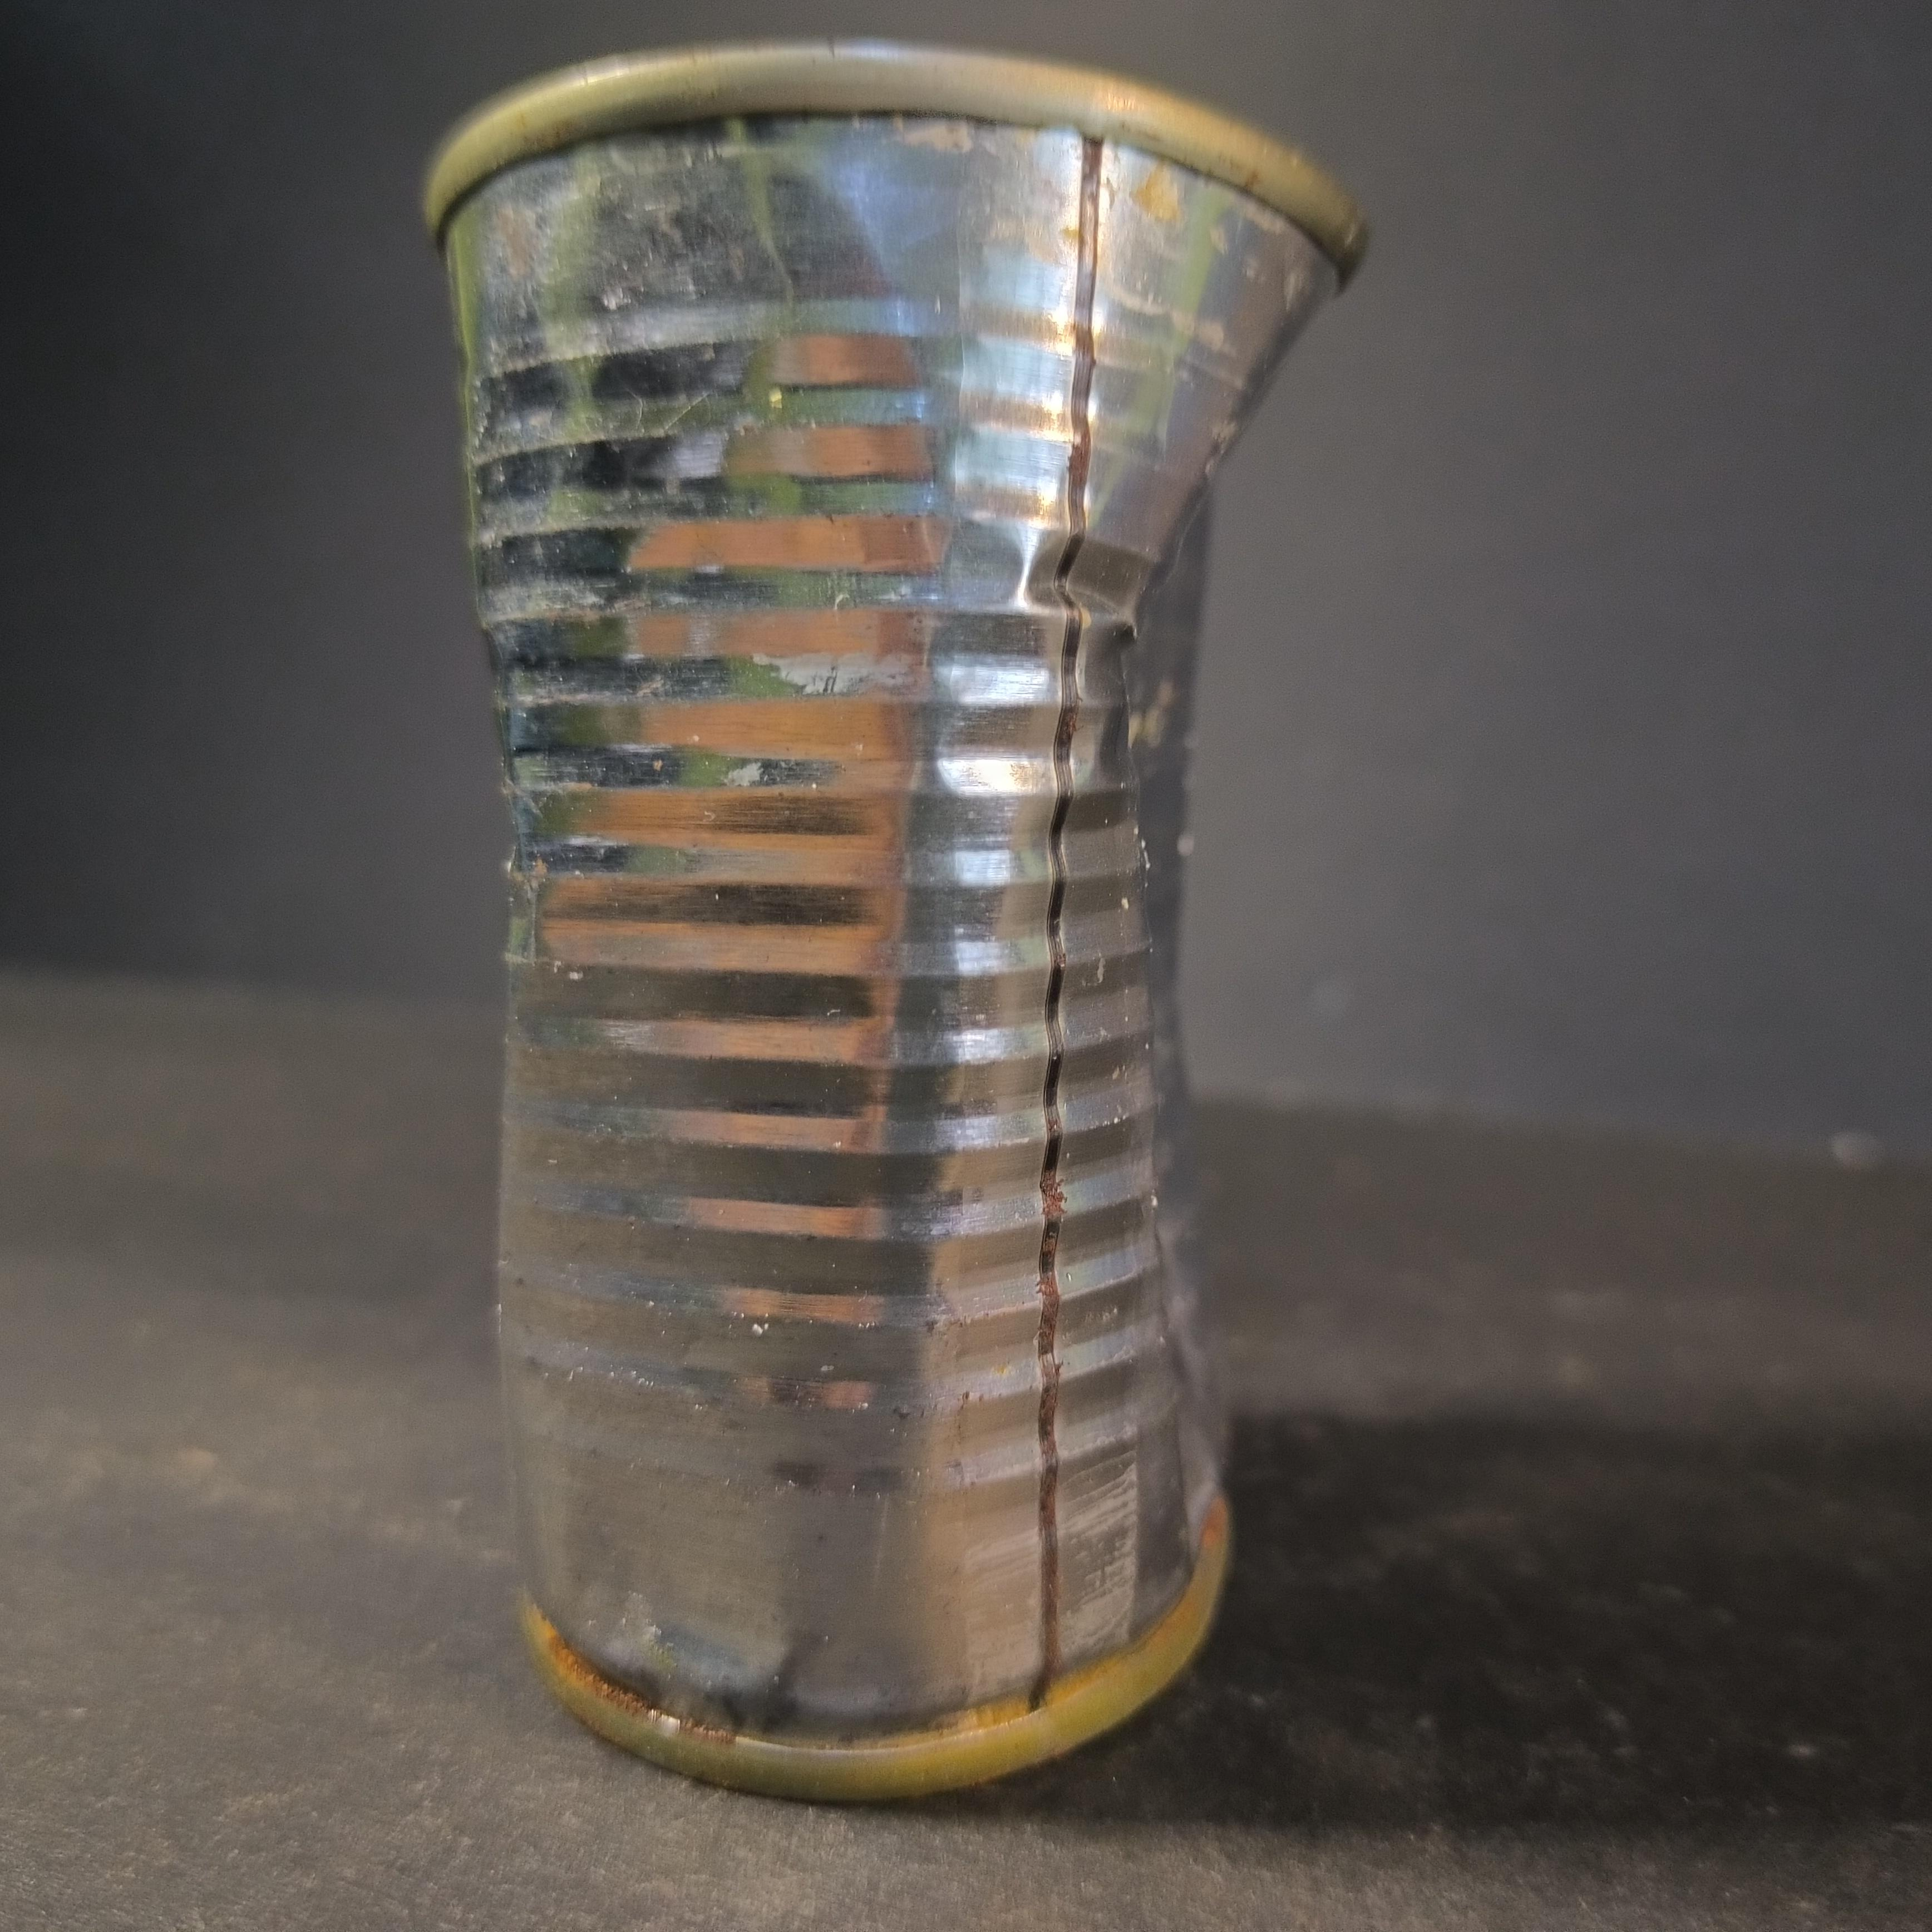Major Defect: (418, 42, 1369, 1808)
